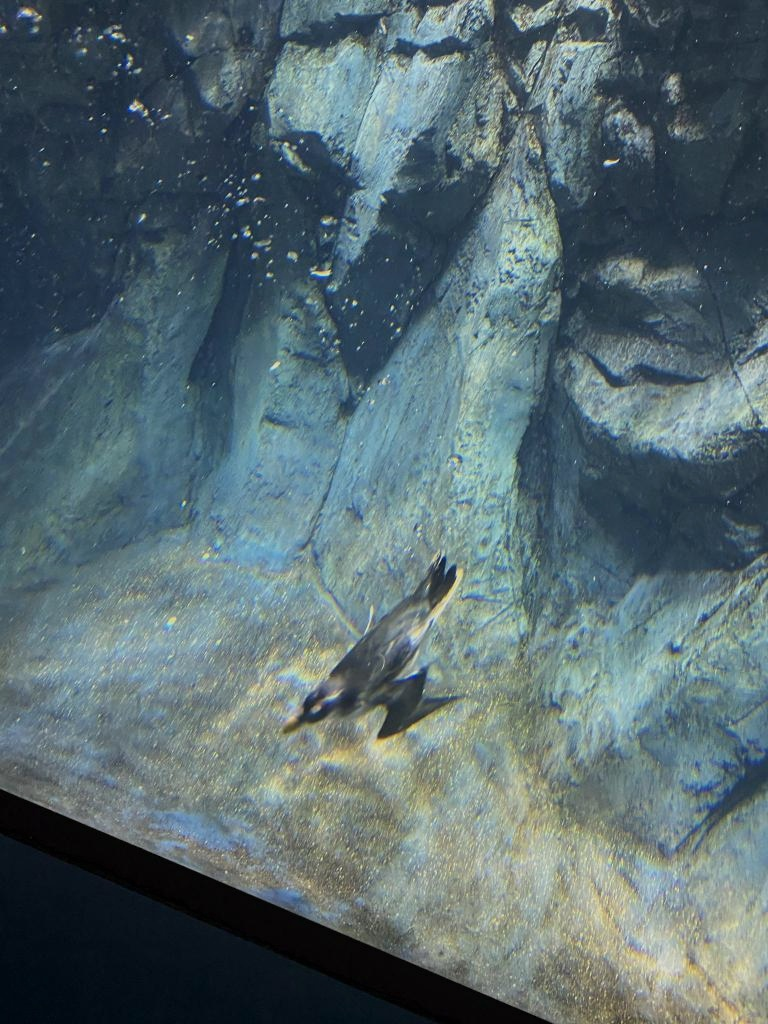puffin: (278, 548, 464, 742)
